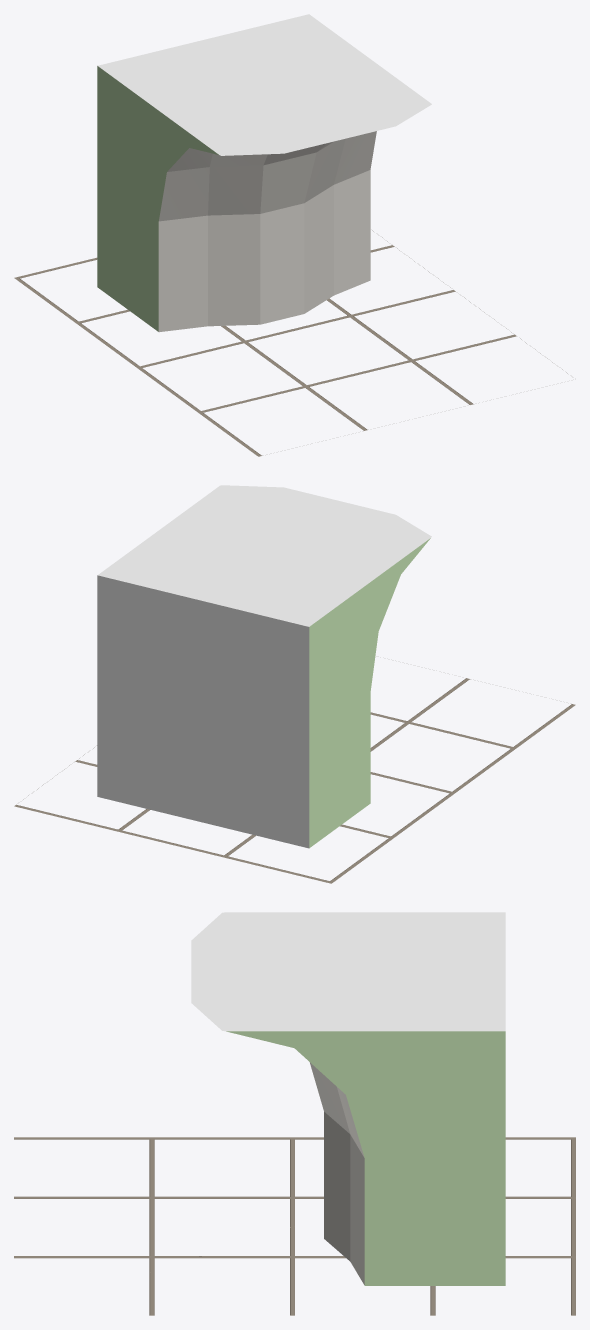
File: Wall_Straight_Deformed_Convex_2x2_Top.glb
3 renders of one model, top to bottom at view 1: azimuth 30°, elevation 25°; view 2: azimuth 150°, elevation 25°; view 3: azimuth 270°, elevation 25°, orthographic. The views are drawn at different scales.
Visible parts, largest first — view 1: Wall_Straight_Deformed_Convex_2x2_Top, Floor; view 2: Wall_Straight_Deformed_Convex_2x2_Top, Floor; view 3: Wall_Straight_Deformed_Convex_2x2_Top, Floor.
Boxes of the visible parts, x1,y1,x2,y2 form: Wall_Straight_Deformed_Convex_2x2_Top: (97, 14, 431, 332); Floor: (14, 230, 567, 456); Wall_Straight_Deformed_Convex_2x2_Top: (97, 485, 431, 848); Floor: (14, 678, 575, 883); Wall_Straight_Deformed_Convex_2x2_Top: (191, 912, 505, 1285); Floor: (14, 1137, 575, 1315).
Size of the model in its own units: 300 by 200 by 400.
Materials: 5 (1 with a texture image).
